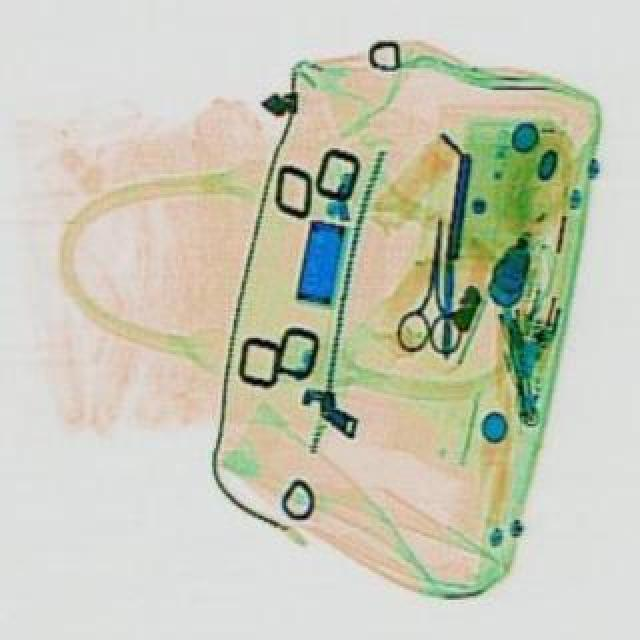pliers: (394, 214, 466, 350)
